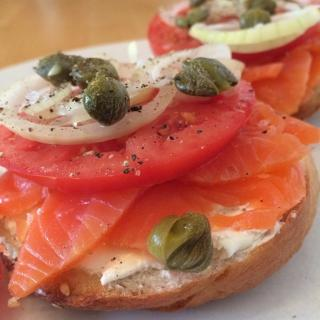tomato: (0, 74, 255, 194), (147, 0, 314, 70)
